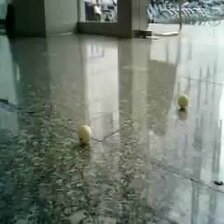w: (77, 125, 93, 144), (177, 94, 189, 109)
